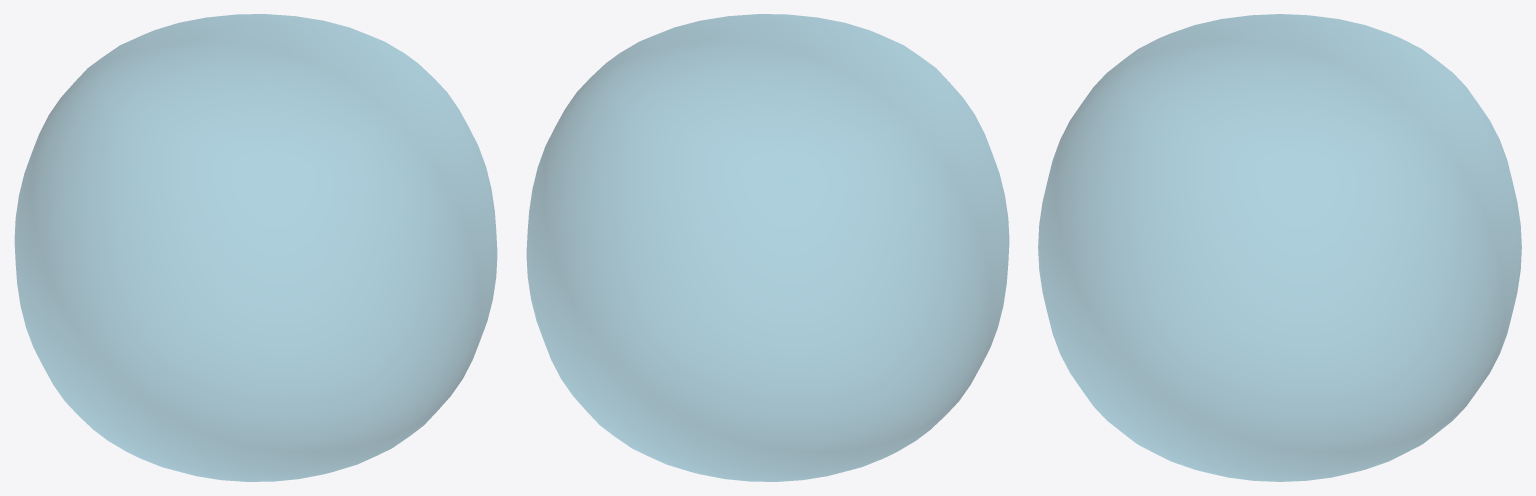
Rendered from Bubble.fbx.
The picture shows the model from 3 angles, left to right: view 1: azimuth 30°, elevation 25°; view 2: azimuth 150°, elevation 25°; view 3: azimuth 270°, elevation 25°; orthographic projection.
Parts seen in each view (by area): view 1: Bubble; view 2: Bubble; view 3: Bubble.
Boxes of the visible parts, x1,y1,x2,y2 form: Bubble: (14,14,497,481); Bubble: (526,14,1009,481); Bubble: (1038,14,1521,481).
Size of the model in its own units: 67.47 by 62.35 by 67.47.
